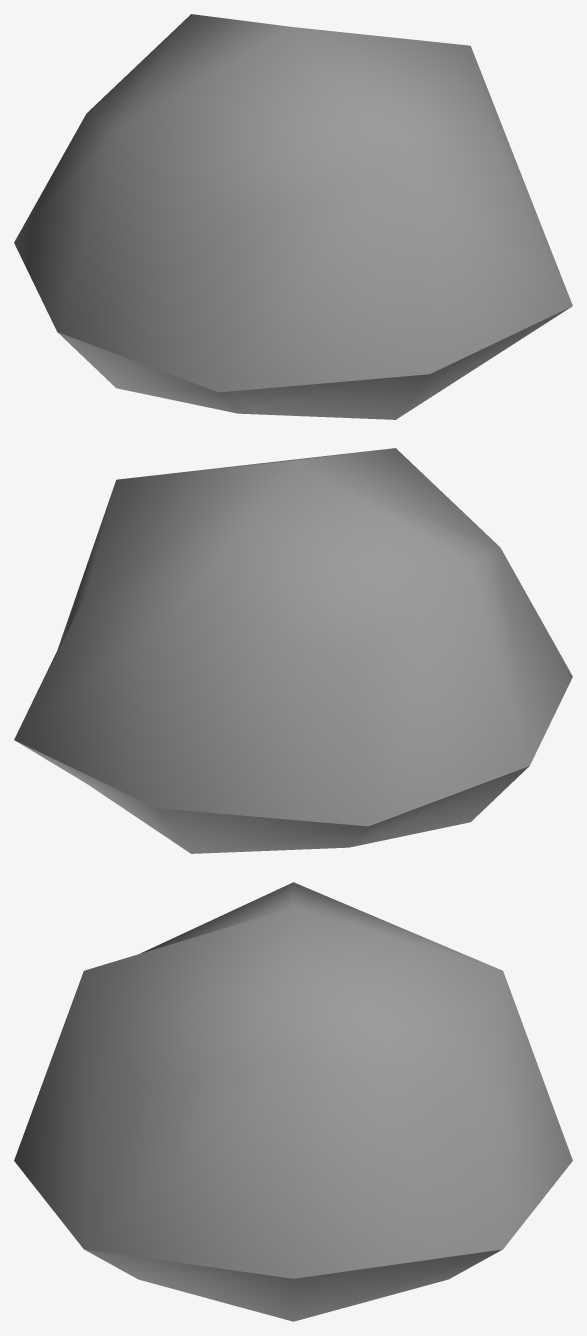
The model's file is Rocks.fbx.
3 renders of one model, top to bottom at view 1: azimuth 30°, elevation 25°; view 2: azimuth 150°, elevation 25°; view 3: azimuth 270°, elevation 25°, orthographic. The views are drawn at different scales.
Parts seen in each view (by area): view 1: LargeRock; view 2: LargeRock; view 3: LargeRock.
Part boxes in pixels (left/top/right/bottom): LargeRock: left=14, top=14, right=572, bottom=419; LargeRock: left=14, top=448, right=572, bottom=853; LargeRock: left=14, top=882, right=572, bottom=1321.
Size of the model in its own units: 4.8 by 3.32 by 4.8.
